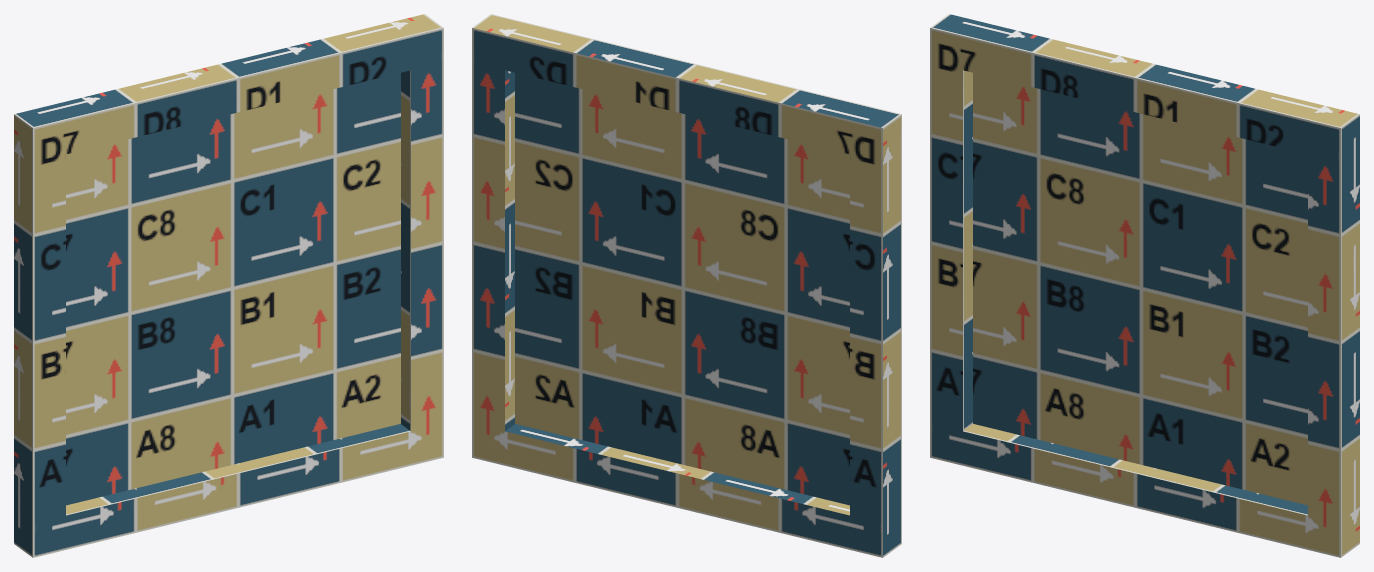
The model's file is DETAIL_ServiceHatch.fbx.
3 views of the same model, side by side, from view 1: azimuth 30°, elevation 25°; view 2: azimuth 150°, elevation 25°; view 3: azimuth 330°, elevation 25° (orthographic).
Parts seen in each view (by area): view 1: DETAIL_ServiceHatch; view 2: DETAIL_ServiceHatch; view 3: DETAIL_ServiceHatch.
Part boxes in pixels (box(x1,y1,x2,y2)): DETAIL_ServiceHatch: box(14, 14, 443, 557); DETAIL_ServiceHatch: box(472, 14, 901, 557); DETAIL_ServiceHatch: box(930, 14, 1359, 557).
Size of the model in its own units: 100 by 100 by 8.
1 material, 1 textured.
